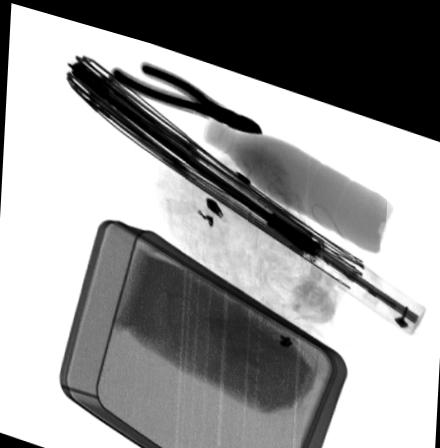Pliers: (109, 53, 263, 121)
